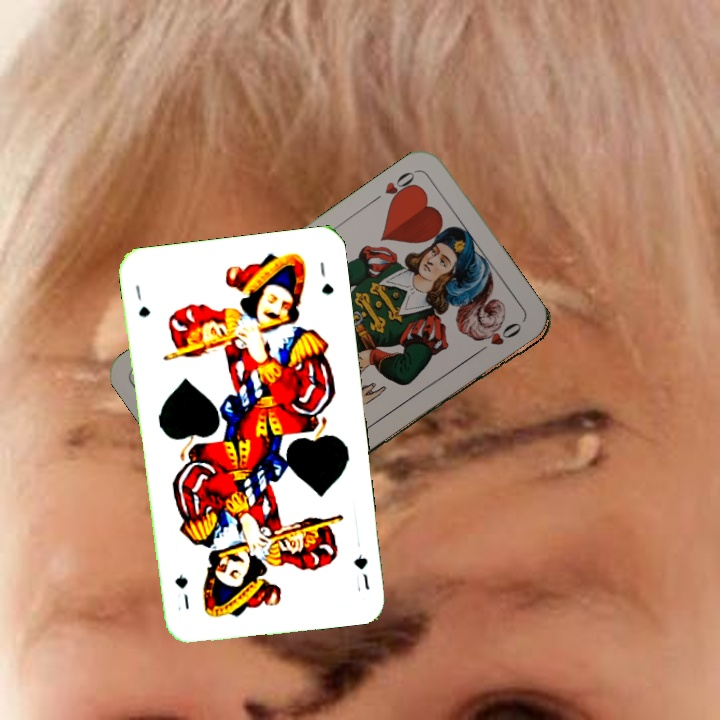GU: (350, 550, 372, 592), (131, 281, 152, 320)
HO: (367, 166, 421, 208)
